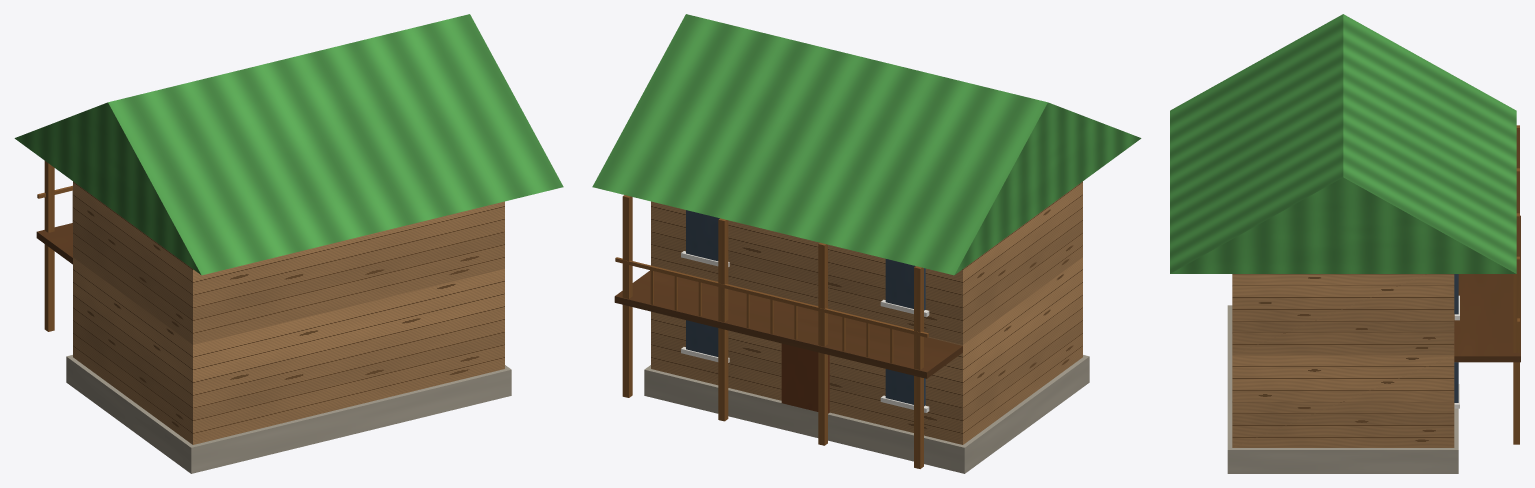
The model's file is env_quba_house.glb.
3 views of the same model, side by side, from view 1: azimuth 30°, elevation 25°; view 2: azimuth 150°, elevation 25°; view 3: azimuth 270°, elevation 25° (orthographic). The views are drawn at different scales.
Parts seen in each view (by area): view 1: env_quba_house; view 2: env_quba_house; view 3: env_quba_house.
Part boxes in pixels (<box>): env_quba_house: <box>14,14,563,473</box>; env_quba_house: <box>592,14,1141,473</box>; env_quba_house: <box>1170,14,1520,473</box>.
Bounding box in the file's own units: 8.7 × 7.6 × 7.9.
Materials: 1 (1 with a texture image).
